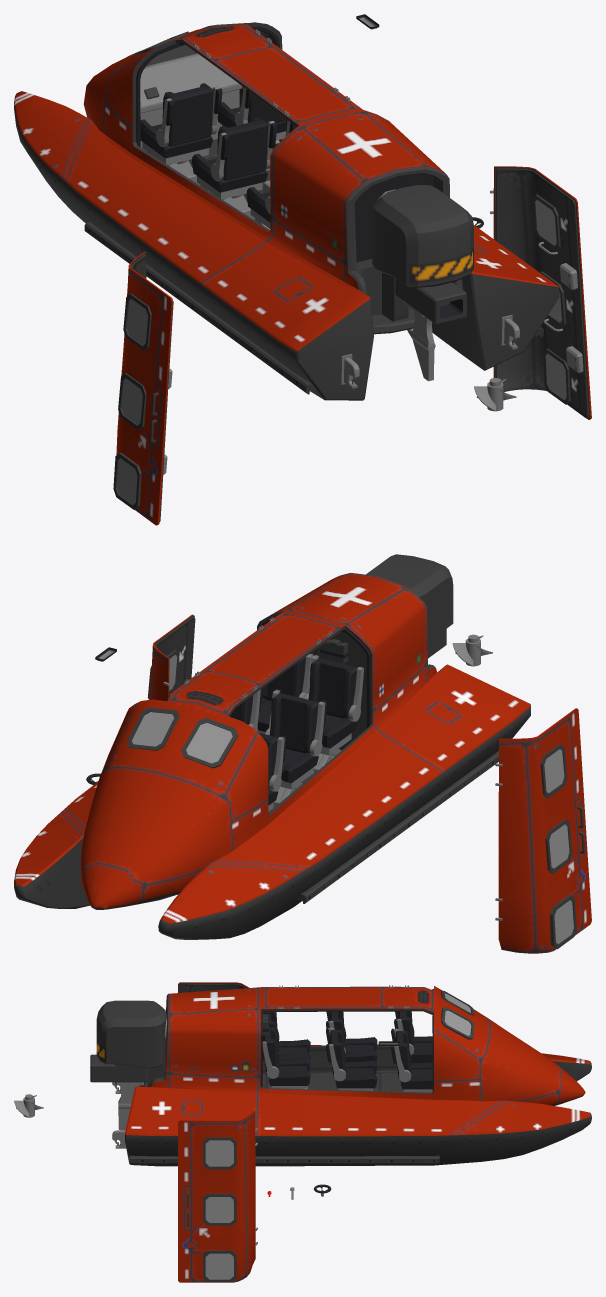
Rendered from lifeboat.fbx.
3 views of the same model, one above another, from view 1: azimuth 30°, elevation 25°; view 2: azimuth 150°, elevation 25°; view 3: azimuth 270°, elevation 25° (orthographic). The views are drawn at different scales.
Parts seen in each view (by area): view 1: lifeboat, lifeboat_door_right, lifeboat_door_left, lifeboat_propeller; view 2: lifeboat, lifeboat_door_left, lifeboat_door_right, lifeboat_propeller; view 3: lifeboat, lifeboat_door_right, lifeboat_door_left, lifeboat_propeller.
Boxes of the visible parts, x1,y1,x2,y2 form: lifeboat: (14,22,559,400); lifeboat_door_right: (490,166,591,419); lifeboat_door_left: (113,252,173,525); lifeboat_propeller: (474,378,516,411); lifeboat: (14,554,530,939); lifeboat_door_left: (495,708,591,953); lifeboat_door_right: (147,614,195,701); lifeboat_propeller: (452,634,492,666); lifeboat: (90,985,591,1166); lifeboat_door_right: (178,1111,257,1282); lifeboat_door_left: (178,982,249,992); lifeboat_propeller: (14,1094,43,1117).
Size of the model in its own units: 543 by 368 by 885.
5 materials, 3 textured.
